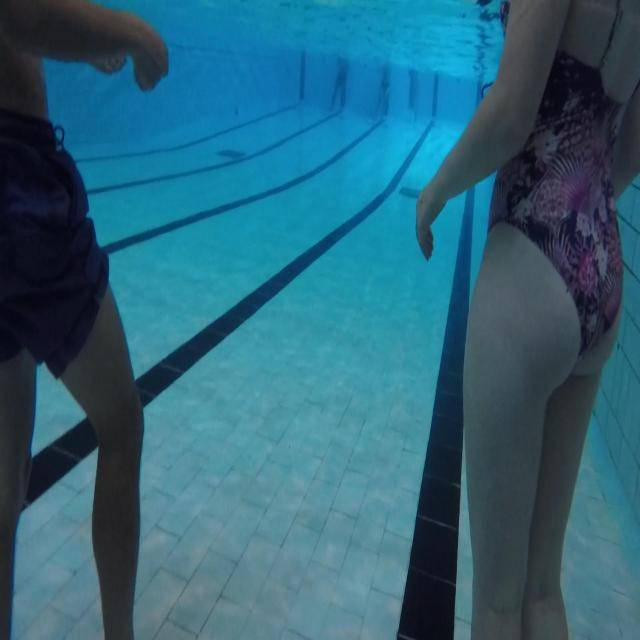human: (415, 0, 639, 638), (0, 1, 169, 638)
